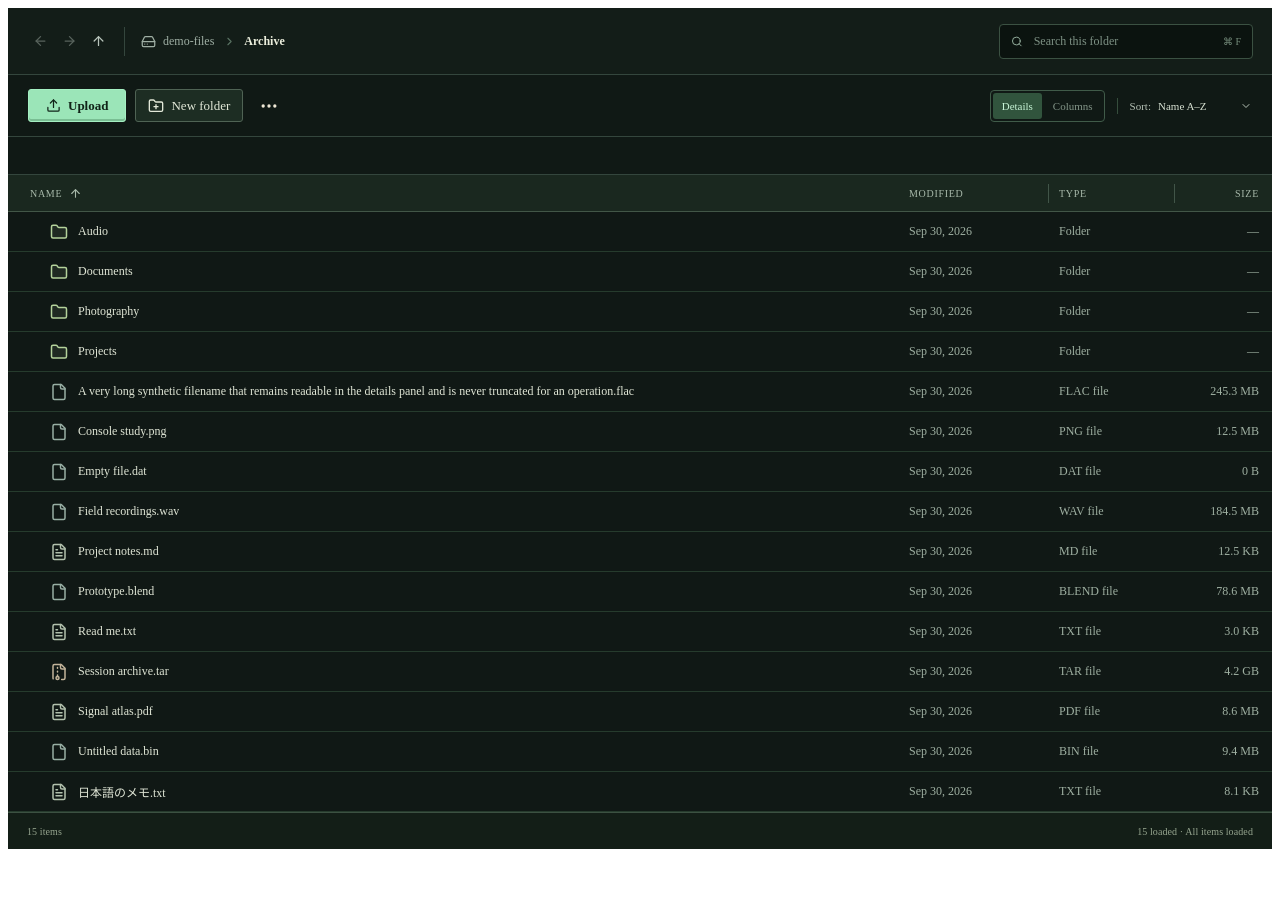
Test: composed fault acceptance matrix › marks cached entries stale after a rejected refresh and disables mutations
The width and height of the screenshot is (1280, 900).
Later steps or results of the test are not shown.
Step 1. Click the text "Field recordings.wav" → (129, 512), box [78,504,179,519]
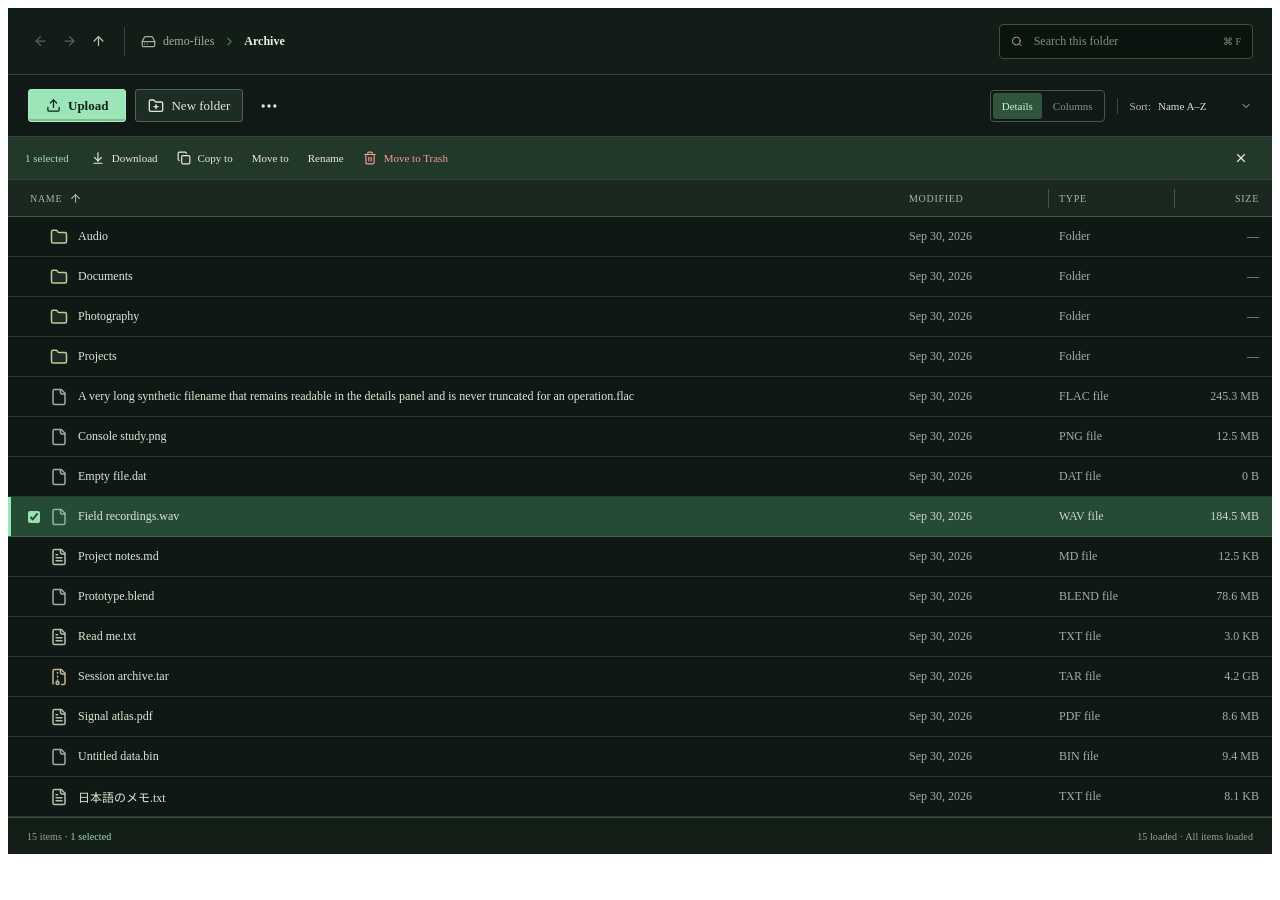
Result: the button "Rename" is enabled at [301,144,351,172]
